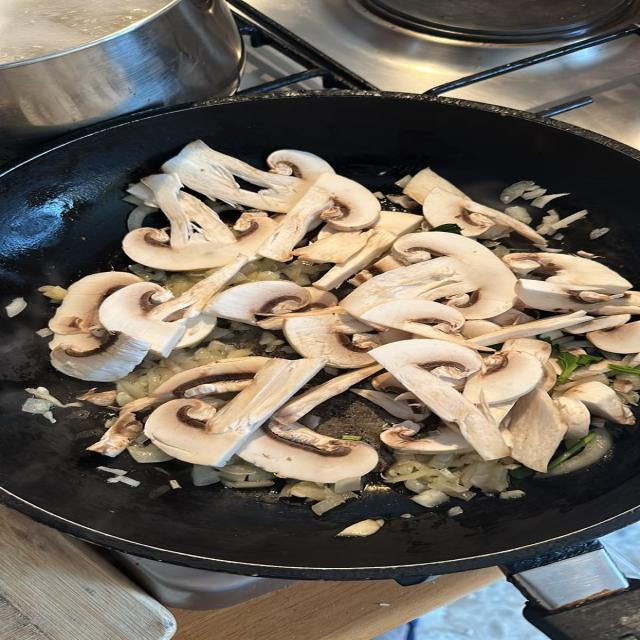champignon mushrooms: (146, 359, 326, 466), (370, 340, 508, 459), (123, 175, 277, 270), (392, 232, 516, 319), (162, 141, 308, 212), (152, 255, 247, 348), (313, 212, 421, 290), (237, 425, 378, 483), (341, 258, 476, 317), (423, 188, 547, 245), (270, 365, 381, 427), (100, 283, 185, 357), (361, 300, 485, 350), (50, 272, 141, 334), (258, 186, 332, 261), (503, 253, 631, 293), (283, 311, 372, 368), (145, 398, 220, 465), (509, 387, 567, 471), (154, 357, 268, 399), (51, 333, 150, 381), (86, 397, 163, 457), (204, 281, 310, 324), (516, 279, 639, 315), (463, 350, 543, 404), (470, 311, 592, 345), (313, 173, 380, 231), (381, 420, 472, 454), (564, 382, 635, 425), (293, 230, 373, 263), (350, 389, 428, 421), (403, 168, 467, 204), (267, 150, 334, 180), (128, 175, 165, 222), (348, 255, 403, 286), (586, 322, 639, 354), (555, 397, 590, 439), (564, 314, 630, 334), (293, 287, 338, 315), (502, 339, 551, 364), (489, 308, 534, 326), (461, 320, 500, 339), (78, 388, 117, 406), (371, 373, 406, 393)
